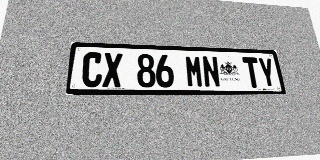6: (155, 54, 174, 87)
8: (137, 54, 156, 87)
C: (81, 52, 103, 87)
M: (185, 55, 204, 88)
N: (201, 56, 221, 88)
T: (242, 57, 262, 88)
X: (102, 53, 122, 87)
Y: (257, 57, 277, 88)
